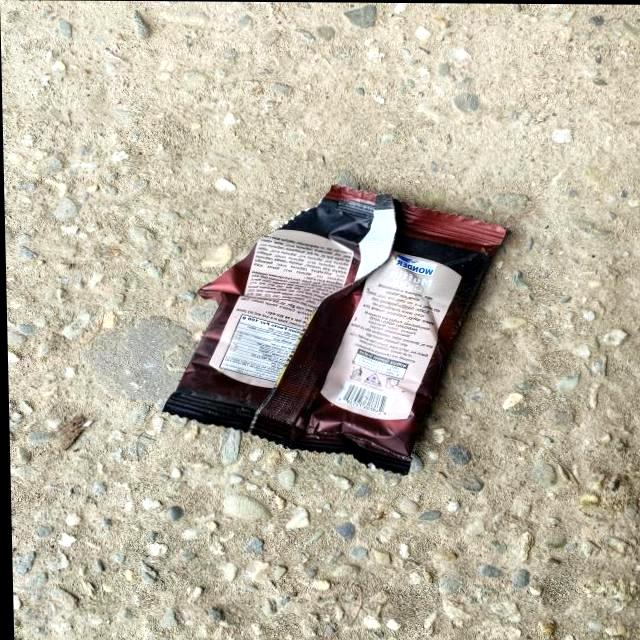packet: (194, 188, 466, 457)
